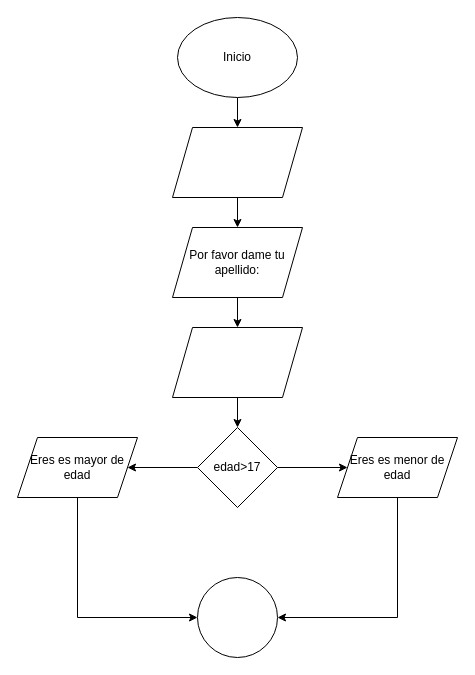
Image size: 475x675. Some labels were removed from this diagram. Here are the shapes that lost their labels. From the top down, the box of each, then its label:
(172, 126, 302, 198): Por favor dame tu nombre:
(172, 326, 302, 398): Por favor dame tu edad:
(196, 576, 278, 658): Fin
